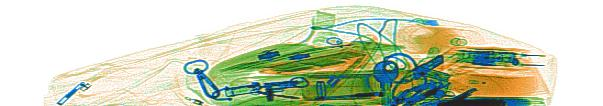plasticBottleWithaNozzle: (400, 21, 486, 57)
